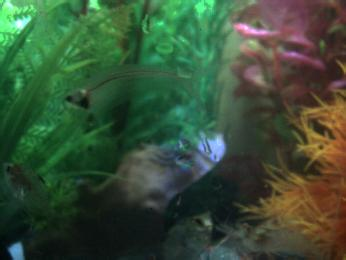X-ray fish: (1, 159, 65, 229), (158, 210, 215, 260)
glassfish: (62, 61, 208, 113)
siberian prawn: (214, 219, 329, 260), (25, 1, 54, 38)
